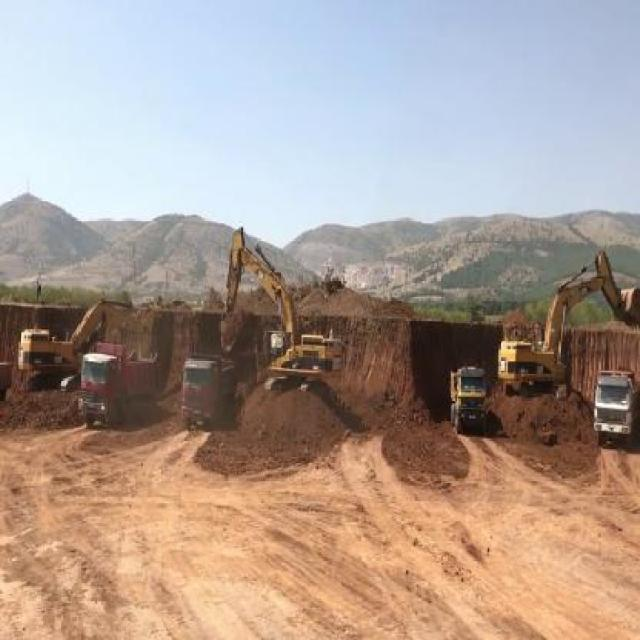dump_truck: (79, 356, 158, 424), (180, 348, 232, 430), (592, 364, 636, 451), (448, 365, 484, 433)
excavator: (495, 247, 639, 398), (214, 223, 340, 394), (13, 300, 158, 378)
